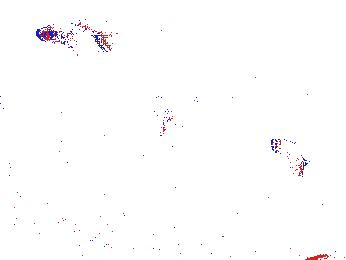redtail glassfish: (35, 18, 120, 58), (269, 136, 312, 189), (150, 90, 178, 139)
